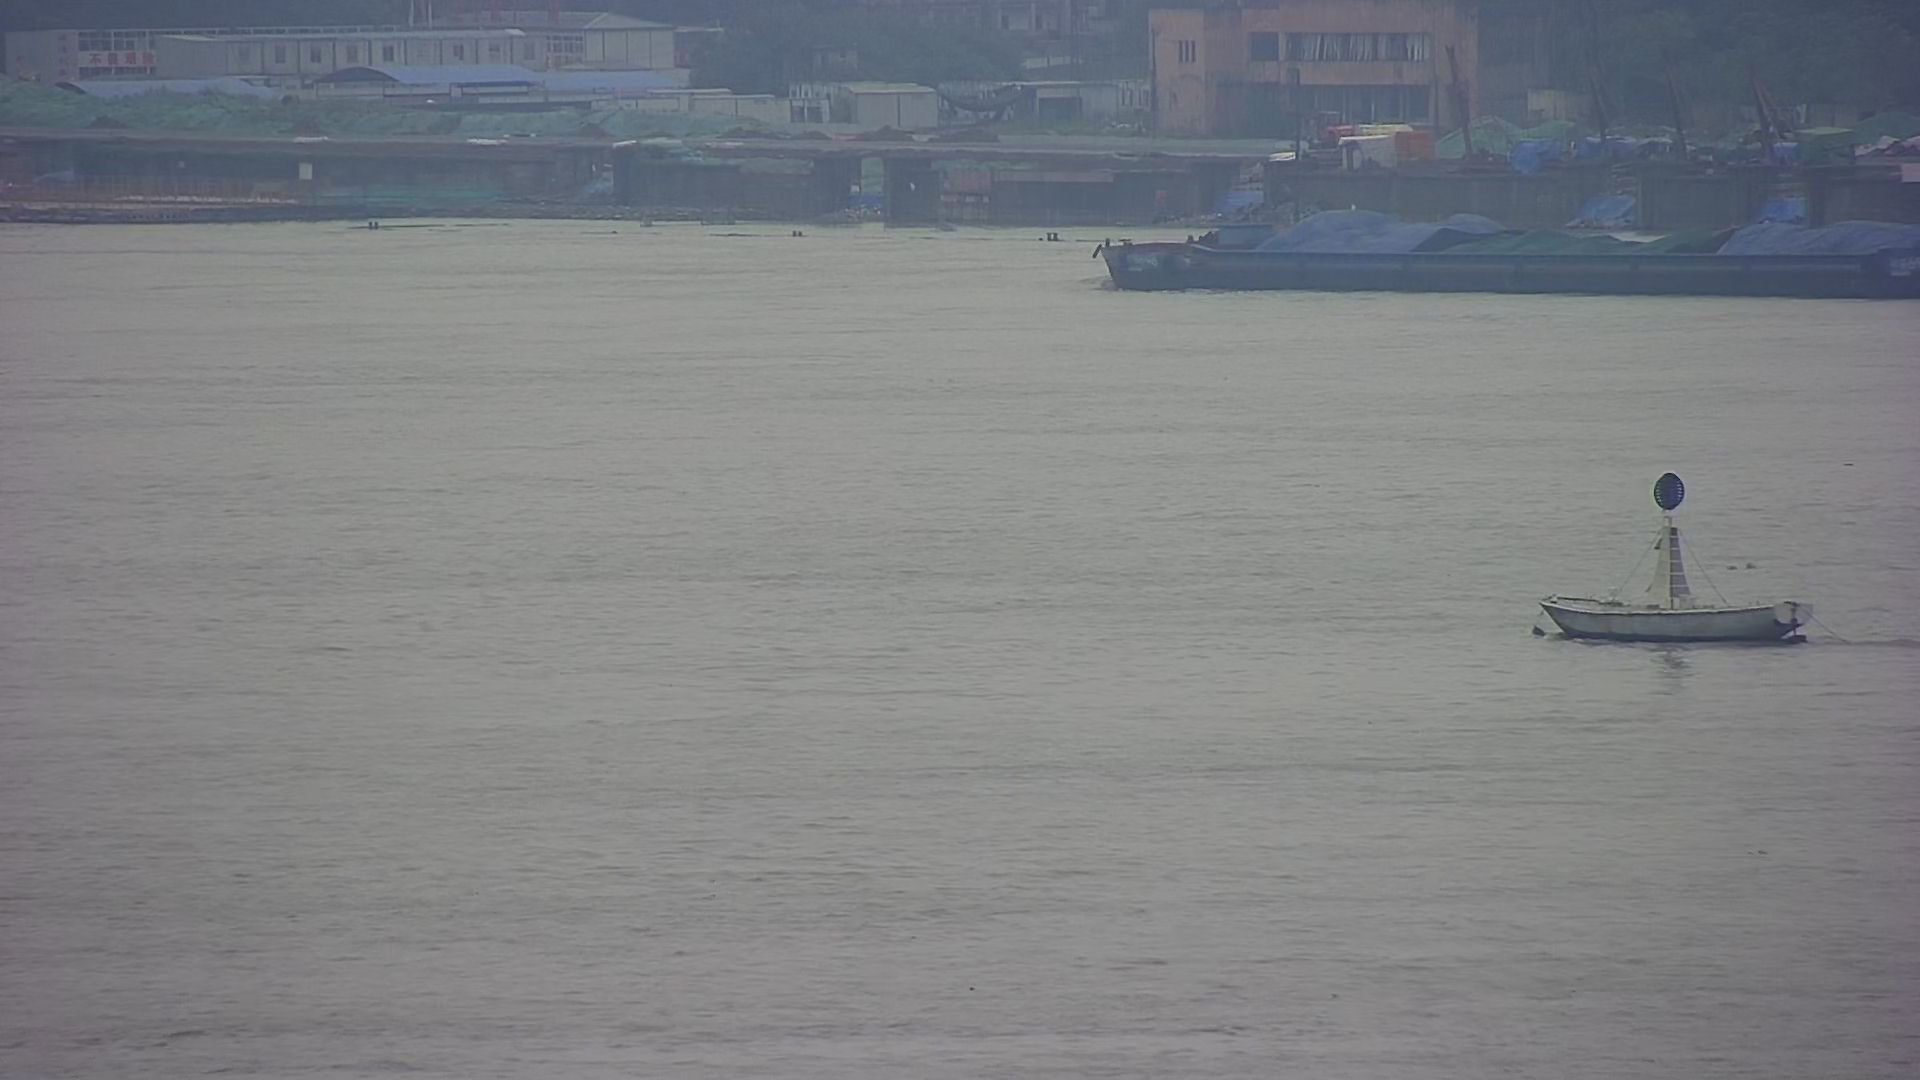boat: (1540, 473, 1818, 646)
ship: (1095, 135, 1920, 303)
